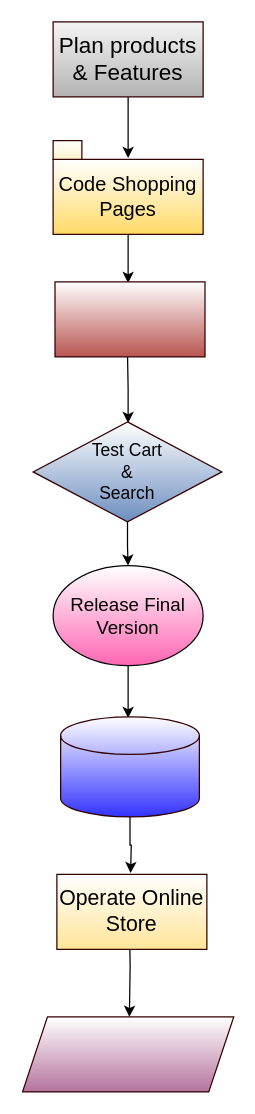
Some shapes in this 255 by 1114 pixel diagram are drawn without their labels. The shapes that lost their labels are listed below. From the top down, each one's box as (x1, y1, x2, y2) in pixels, then its label:
(54, 281, 205, 357): Build Site Structure
(59, 716, 199, 817): Deploy to Hosting
(21, 1016, 234, 1092): Monitor User Activity
